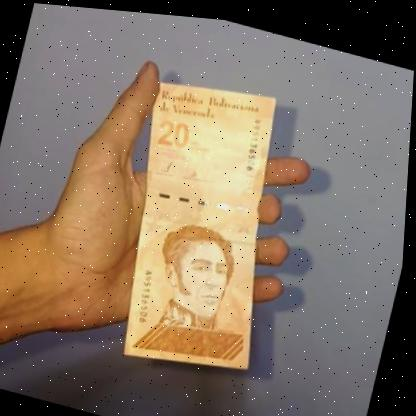twenty-front-vef: (96, 60, 310, 388)
